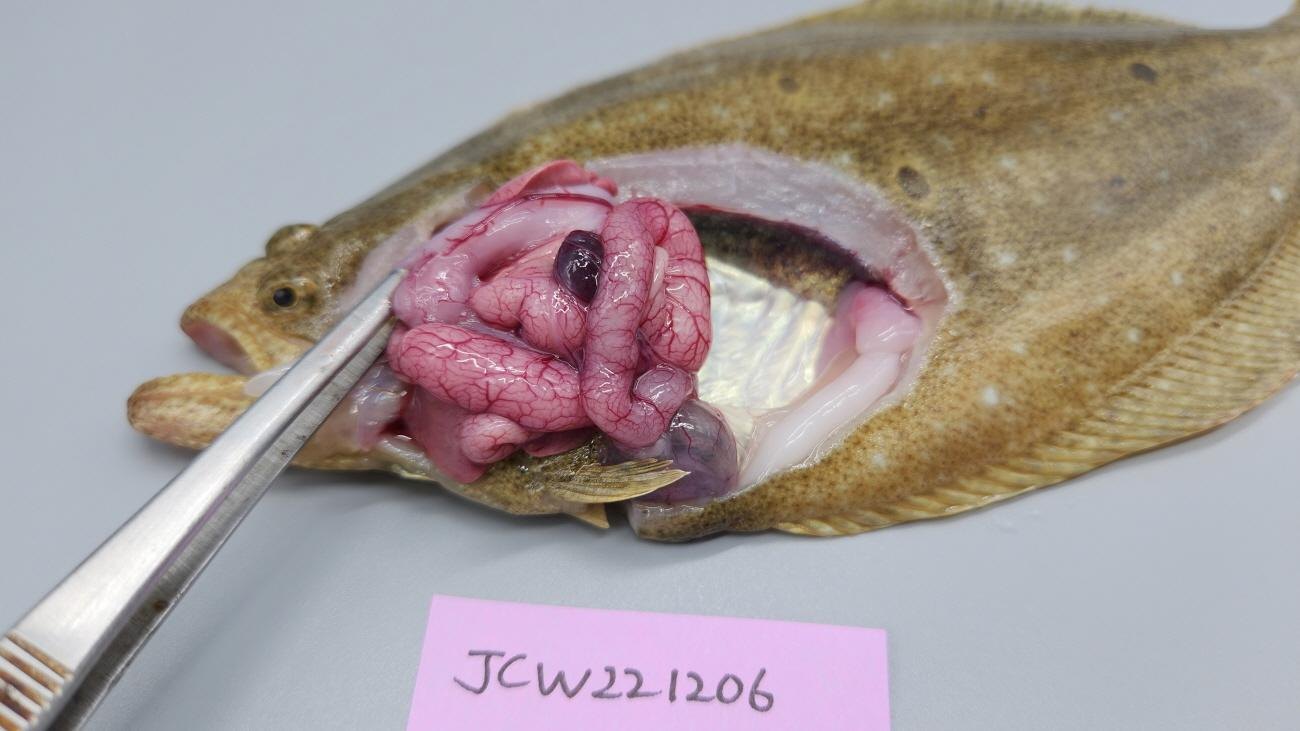POINN: (385, 195, 714, 464)
POSPN: (553, 230, 604, 302)
